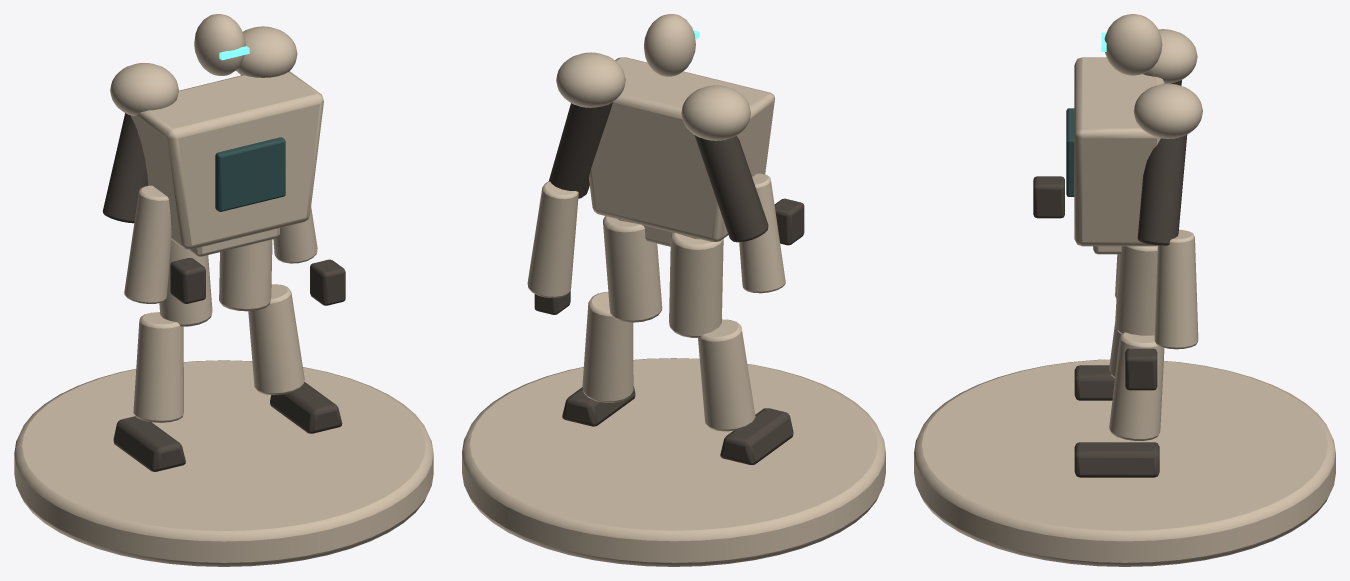
The model's file is reliquary_frame_striker.glb.
The picture shows the model from 3 angles, left to right: view 1: azimuth 30°, elevation 25°; view 2: azimuth 150°, elevation 25°; view 3: azimuth 270°, elevation 25°; orthographic projection.
Visible parts, largest first — view 1: standin_base, standin_torso, standin_shin_R, standin_shin_L, standin_forearm_R, tp, standin_thigh_L, standin_arm_R, standin_pauldron_R, standin_foot_R, standin_pauldron_L, standin_helm (+6 smaller); view 2: standin_base, standin_torso, standin_thigh_R, standin_thigh_L, standin_shin_R, standin_shin_L, standin_forearm_L, standin_arm_R, standin_arm_L, standin_forearm_R, standin_pauldron_L, standin_pauldron_R (+5 smaller); view 3: standin_base, standin_torso, standin_forearm_L, standin_arm_L, standin_shin_L, standin_thigh_L, standin_foot_L, standin_pauldron_L, standin_helm, standin_pauldron_R, standin_hand_L, standin_foot_R (+2 smaller).
Boxes of the visible parts, bbox=[...] form: standin_base: bbox=[14, 360, 433, 566]; standin_torso: bbox=[130, 71, 323, 249]; standin_shin_R: bbox=[133, 312, 183, 422]; standin_shin_L: bbox=[248, 284, 304, 395]; standin_forearm_R: bbox=[124, 185, 171, 303]; tp: bbox=[215, 137, 285, 211]; standin_thigh_L: bbox=[219, 239, 272, 311]; standin_arm_R: bbox=[102, 113, 147, 223]; standin_pauldron_R: bbox=[110, 63, 178, 116]; standin_foot_R: bbox=[113, 416, 185, 471]; standin_pauldron_L: bbox=[236, 26, 297, 77]; standin_helm: bbox=[194, 14, 245, 75]; standin_base: bbox=[462, 358, 885, 566]; standin_torso: bbox=[589, 57, 774, 241]; standin_thigh_R: bbox=[669, 233, 723, 337]; standin_thigh_L: bbox=[603, 216, 662, 322]; standin_shin_R: bbox=[698, 319, 755, 431]; standin_shin_L: bbox=[582, 292, 633, 402]; standin_forearm_L: bbox=[527, 181, 578, 298]; standin_arm_R: bbox=[694, 135, 768, 242]; standin_arm_L: bbox=[548, 102, 612, 198]; standin_forearm_R: bbox=[739, 173, 785, 293]; standin_pauldron_L: bbox=[556, 52, 625, 107]; standin_pauldron_R: bbox=[681, 85, 750, 140]; standin_base: bbox=[914, 359, 1335, 566]; standin_torso: bbox=[1074, 57, 1164, 246]; standin_forearm_L: bbox=[1154, 229, 1198, 349]; standin_arm_L: bbox=[1137, 135, 1187, 245]; standin_shin_L: bbox=[1109, 332, 1164, 440]; standin_thigh_L: bbox=[1115, 246, 1157, 335]; standin_foot_L: bbox=[1074, 442, 1159, 477]; standin_pauldron_L: bbox=[1133, 83, 1202, 138]; standin_helm: bbox=[1104, 14, 1162, 75]; standin_pauldron_R: bbox=[1143, 29, 1197, 83]; standin_hand_L: bbox=[1125, 348, 1157, 390]; standin_foot_R: bbox=[1074, 365, 1114, 400].
Size of the model in its own units: 32 by 38.95 by 32.
